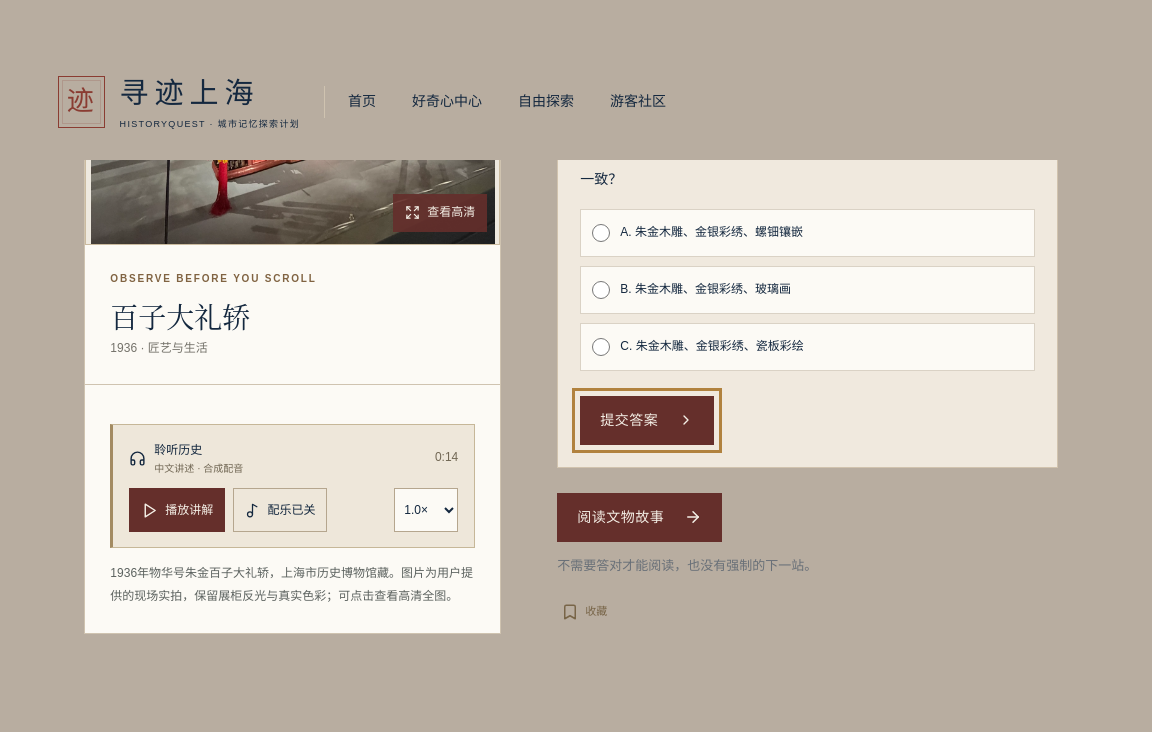
Test case: requires an answer, submits with a keyboard, and prevents duplicate submission events
(page scrolled)
Press Enter
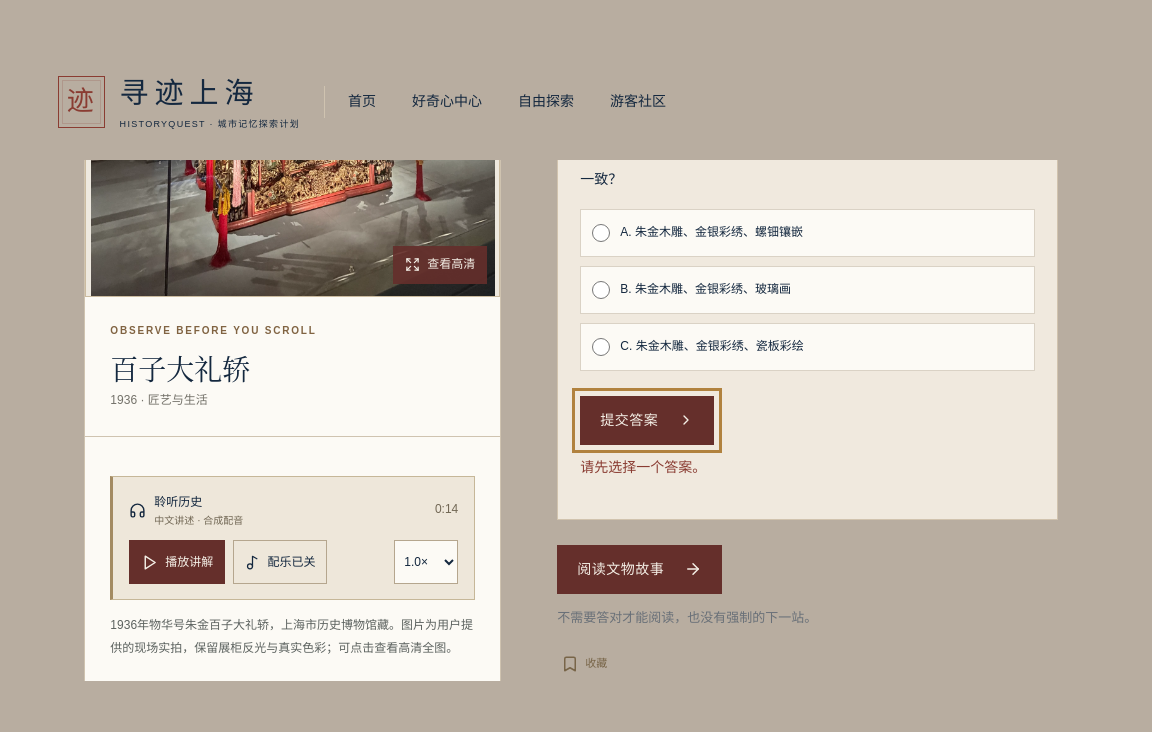
Check: the message reads "请先选择一个答案。", box [580,459,706,475]
Click the button "C. 朱金木雕、金银彩绣、瓷板彩绘" at (712, 346), box [580,323,1035,371]
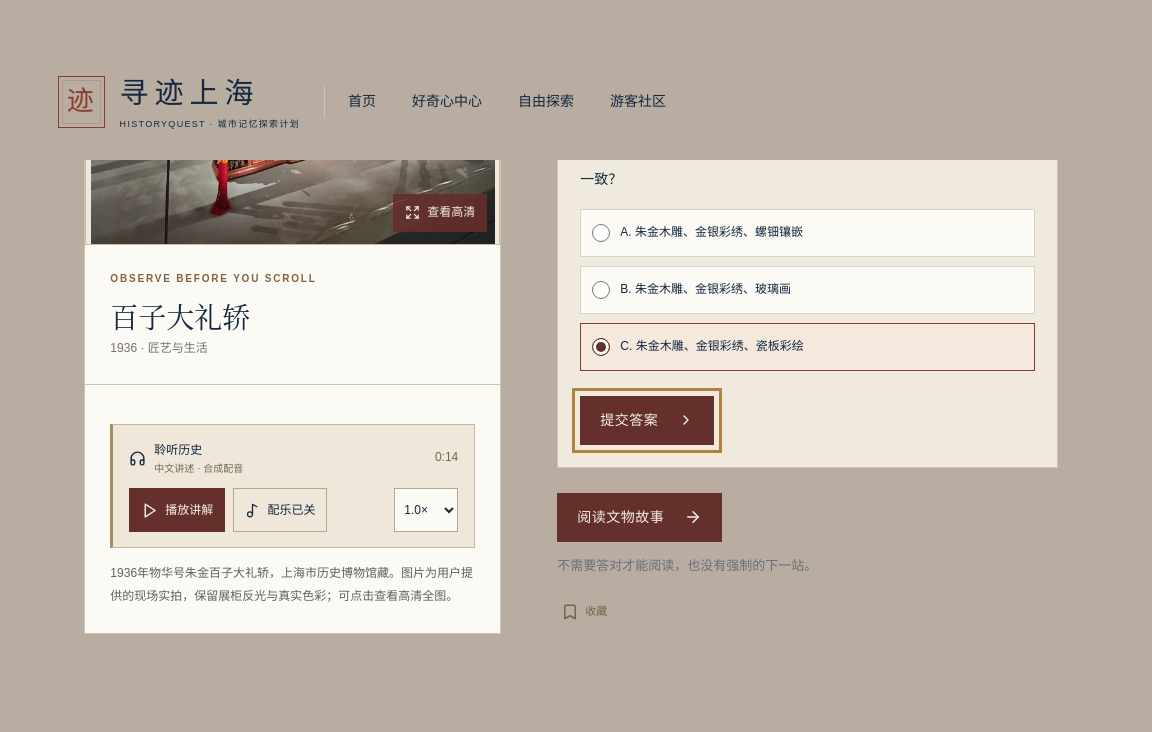
Check: the message "请先选择一个答案。" is gone
Type keys " "
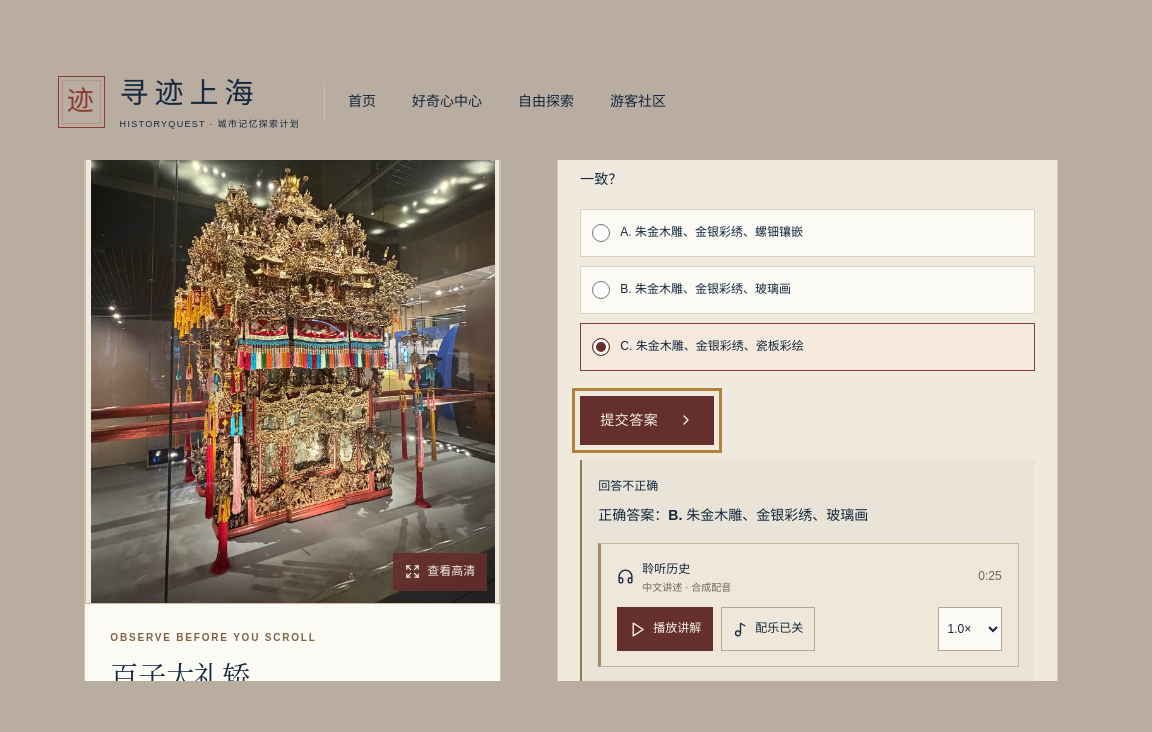
Check: the text "回答不正确" is shown, box [598,479,658,493]
Check: the element named "谜题解释" shows "正确答案：B. 朱金木雕、金银彩绣、玻璃画", box [580,460,1035,681]
Double-click the button "提交答案" at (647, 420), box [580,396,714,445]
Click the button "B. 朱金木雕、金银彩绣、玻璃画" at (706, 289), box [580,266,1035,314]
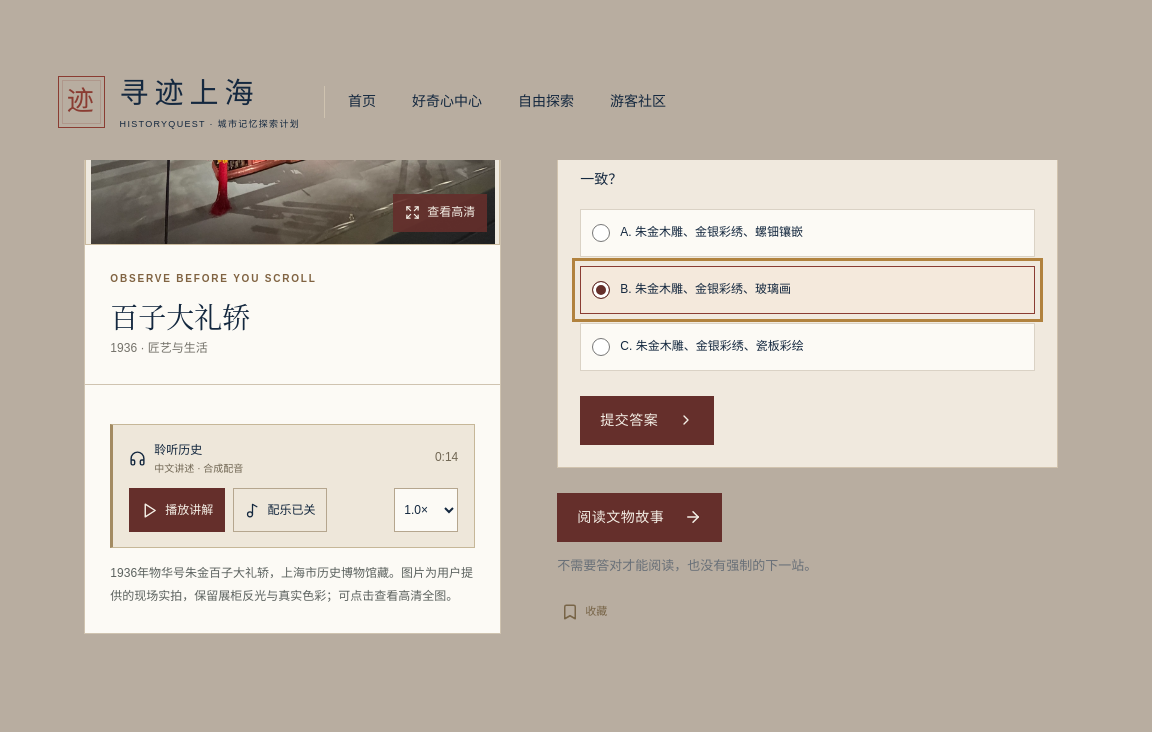
Click the button "提交答案" at (647, 420), box [580,396,714,445]
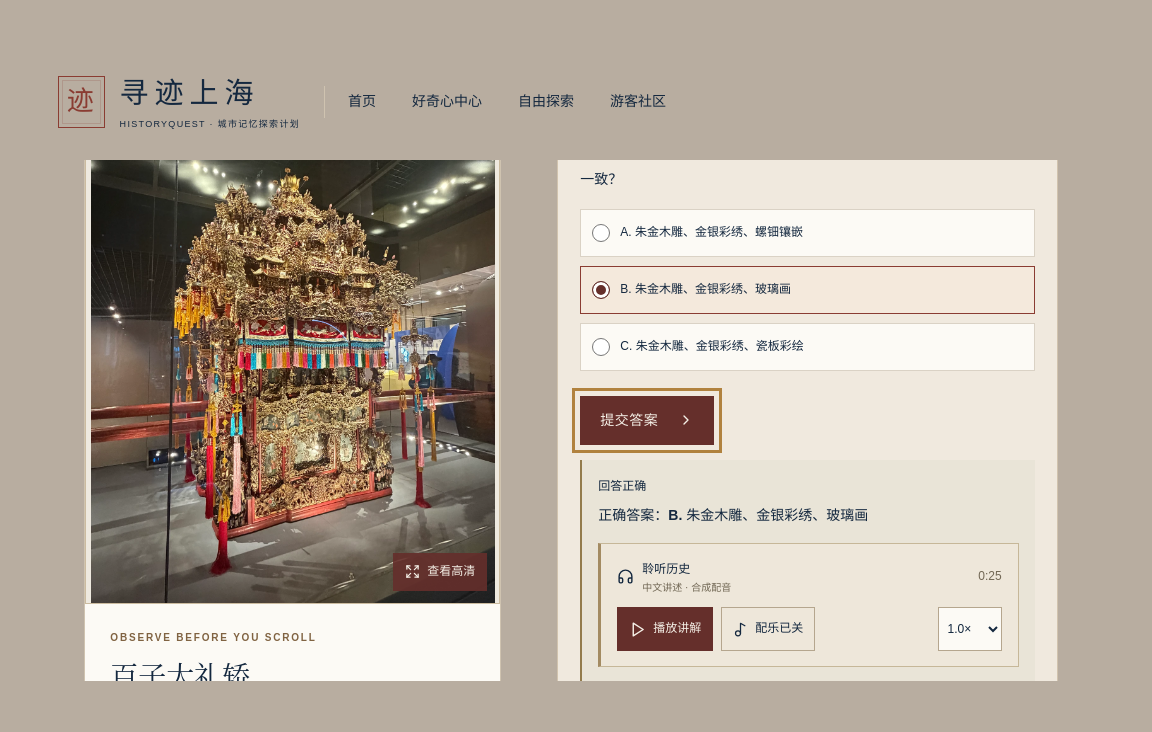
Check: the text "回答正确" is shown, box [598,479,646,493]
Check: the number of elements named "谜题解释" is 1, box [580,460,1035,681]
